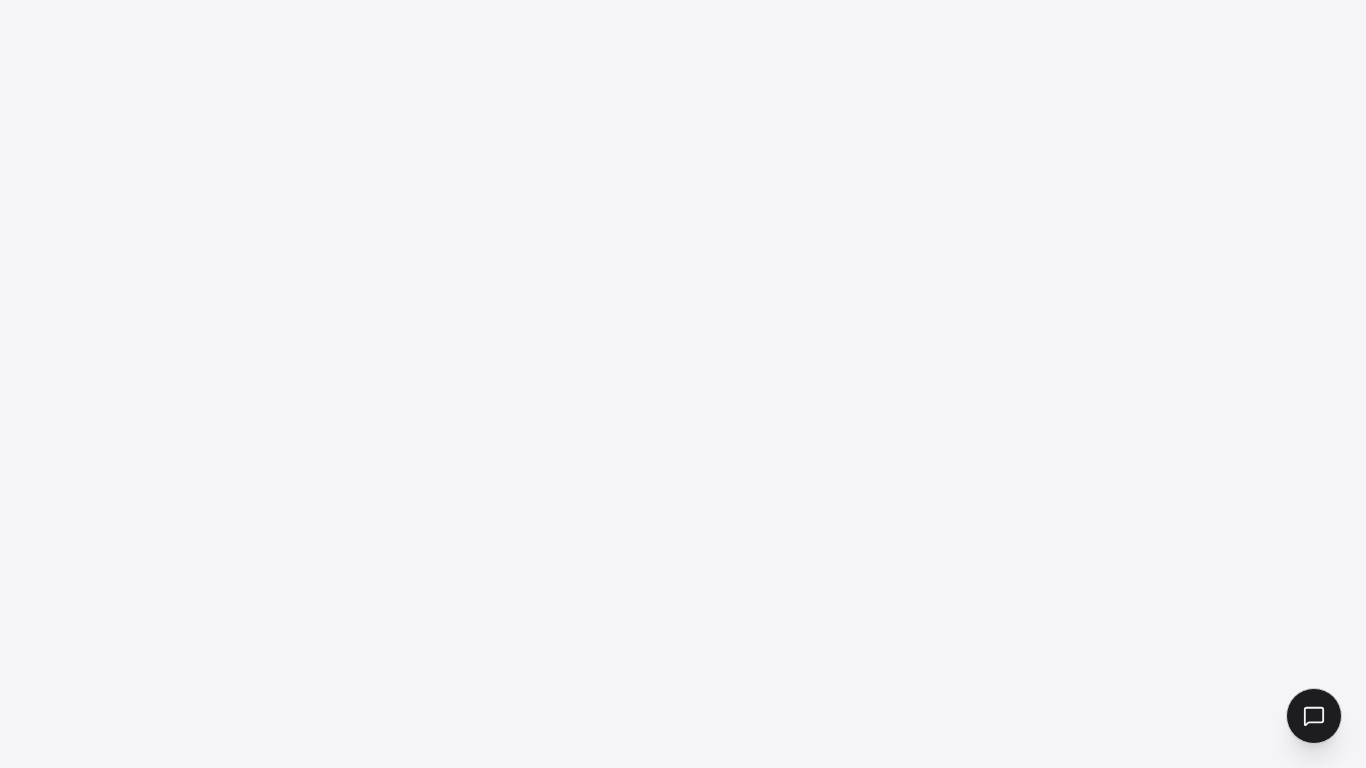
AssistantBubble › opens the panel on click and toggles aria-expanded
The width and height of the screenshot is (1366, 768).
Click the button named "Ask Anvesh".
click(1314, 716)  # box x1=1286 y1=688 x2=1342 y2=744
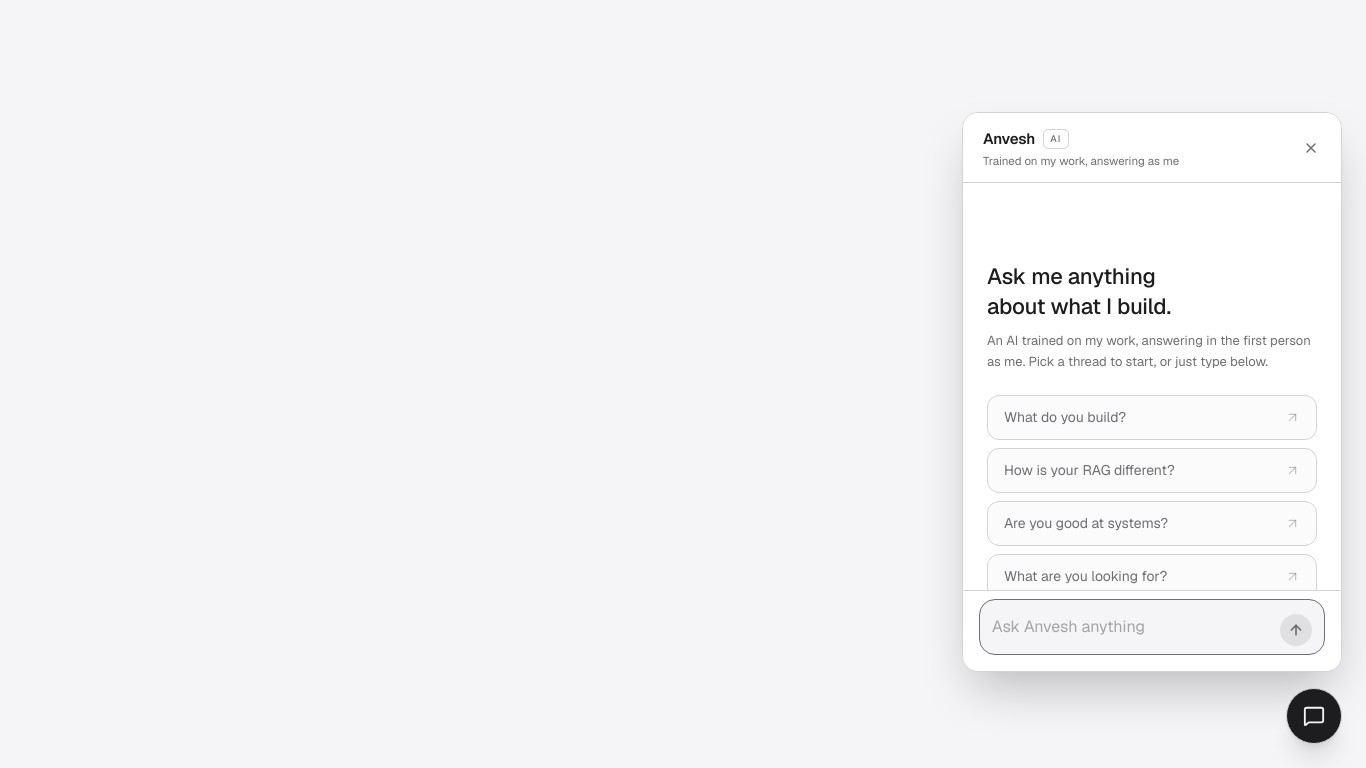
Expected: the text "Ask me anything about what I build." is shown, x1=987 y1=262 x2=1171 y2=320
